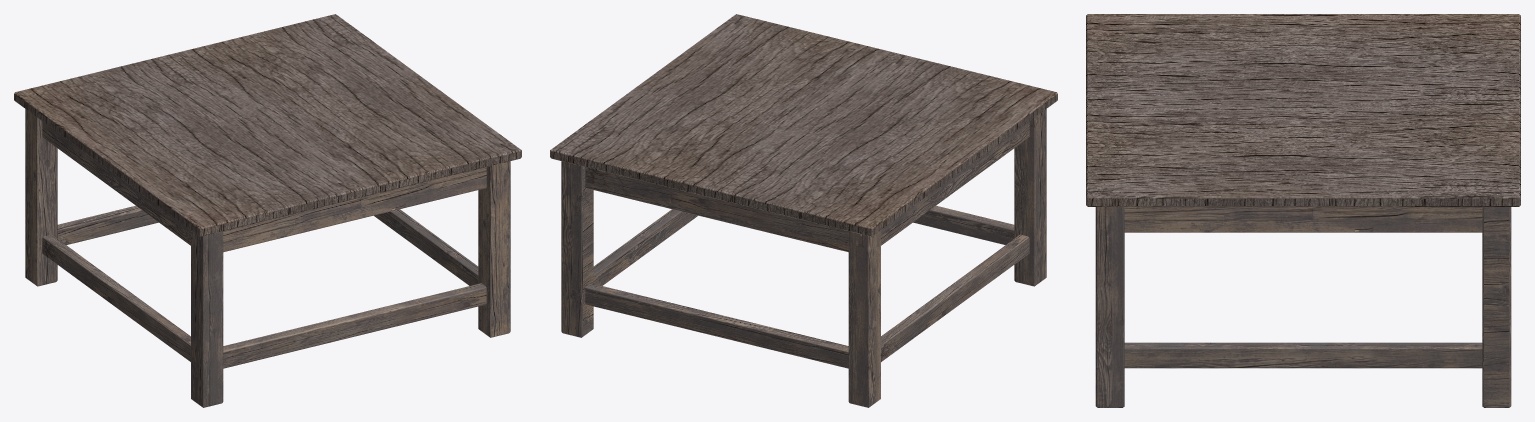
Rendered from WoodTableSquare01.FBX.
The picture shows the model from 3 angles, left to right: view 1: azimuth 30°, elevation 25°; view 2: azimuth 150°, elevation 25°; view 3: azimuth 270°, elevation 25°; orthographic projection. The views are drawn at different scales.
Visible parts, largest first — view 1: Table; view 2: Table; view 3: Table.
Boxes of the visible parts, box(x1,y1,x2,y2) form: Table: box(14, 14, 521, 407); Table: box(550, 14, 1057, 407); Table: box(1086, 14, 1520, 407).
Size of the model in its own units: 55.99 by 30.69 by 55.99.
